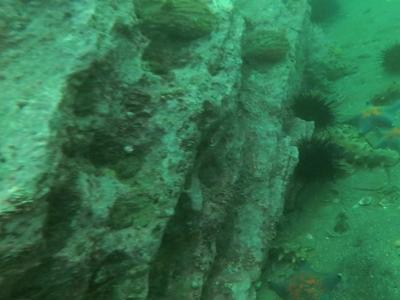holothurian: (327, 127, 398, 168), (292, 57, 360, 90), (265, 232, 313, 267)
urchin: (294, 135, 343, 183), (287, 93, 337, 131), (382, 41, 398, 73)
